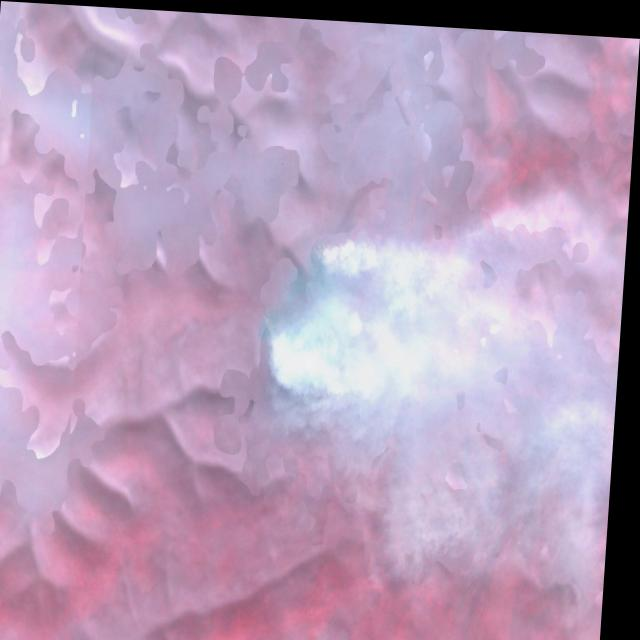fire: (256, 234, 348, 384)
